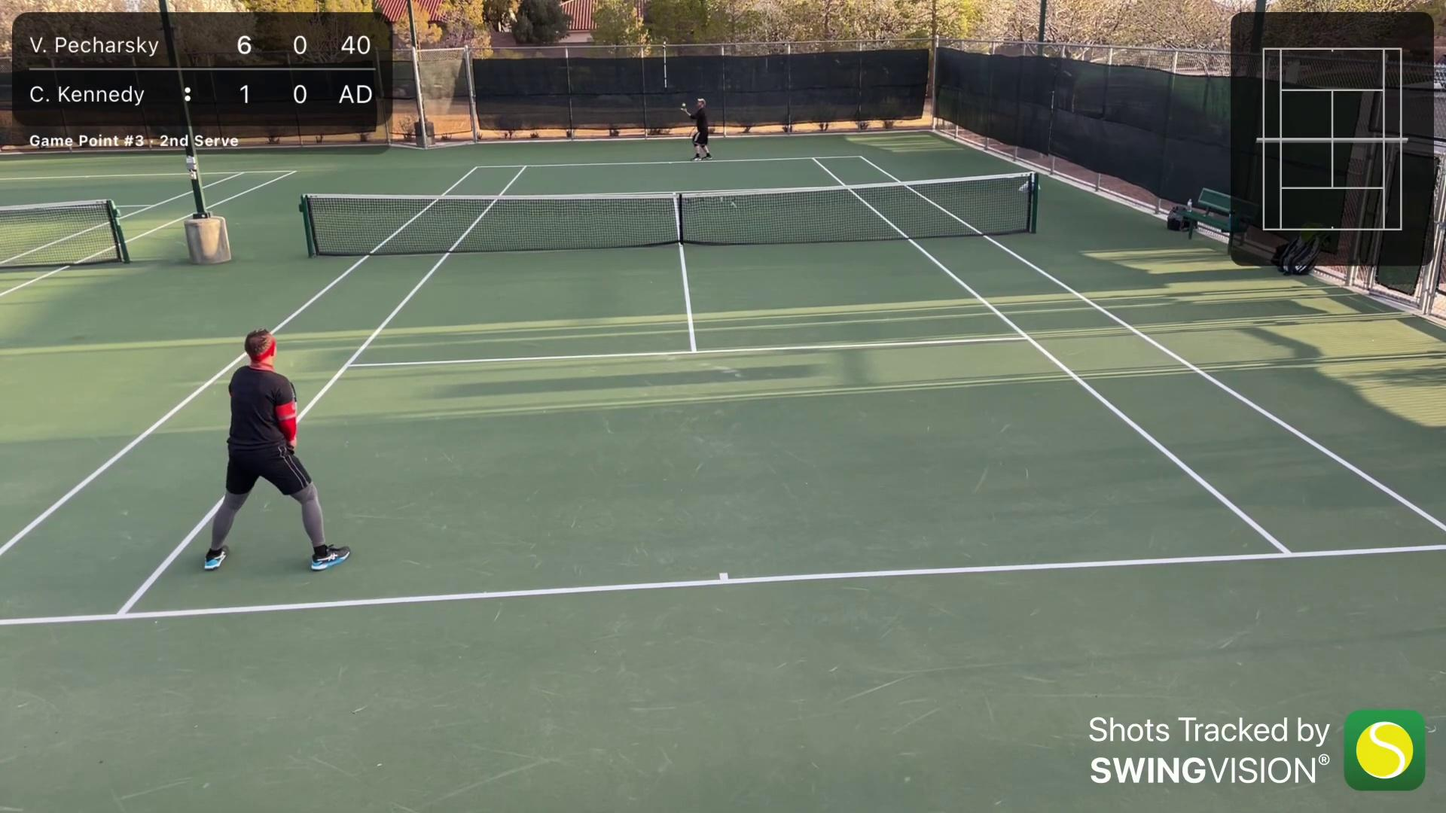ball: (681, 102, 688, 107)
